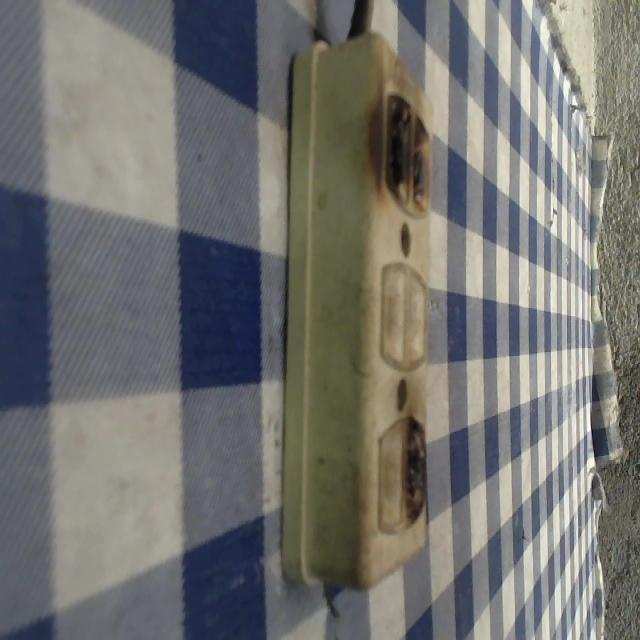-: (364, 74, 432, 230), (394, 410, 429, 526)
